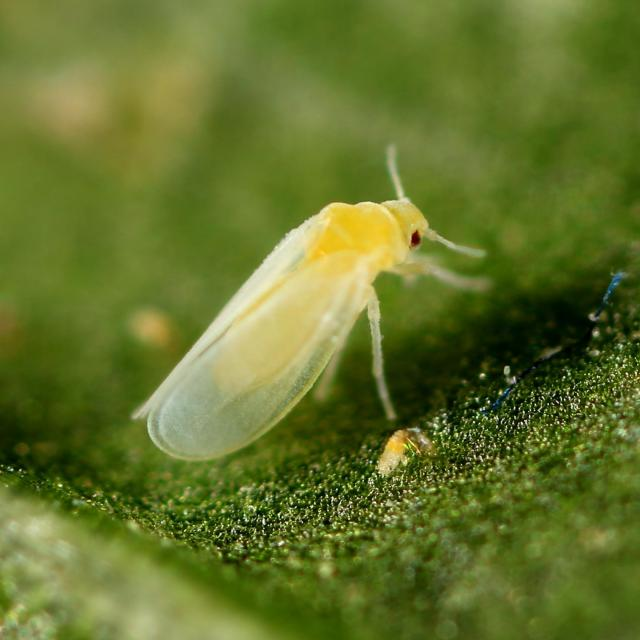whiteflies: (109, 125, 494, 502)
